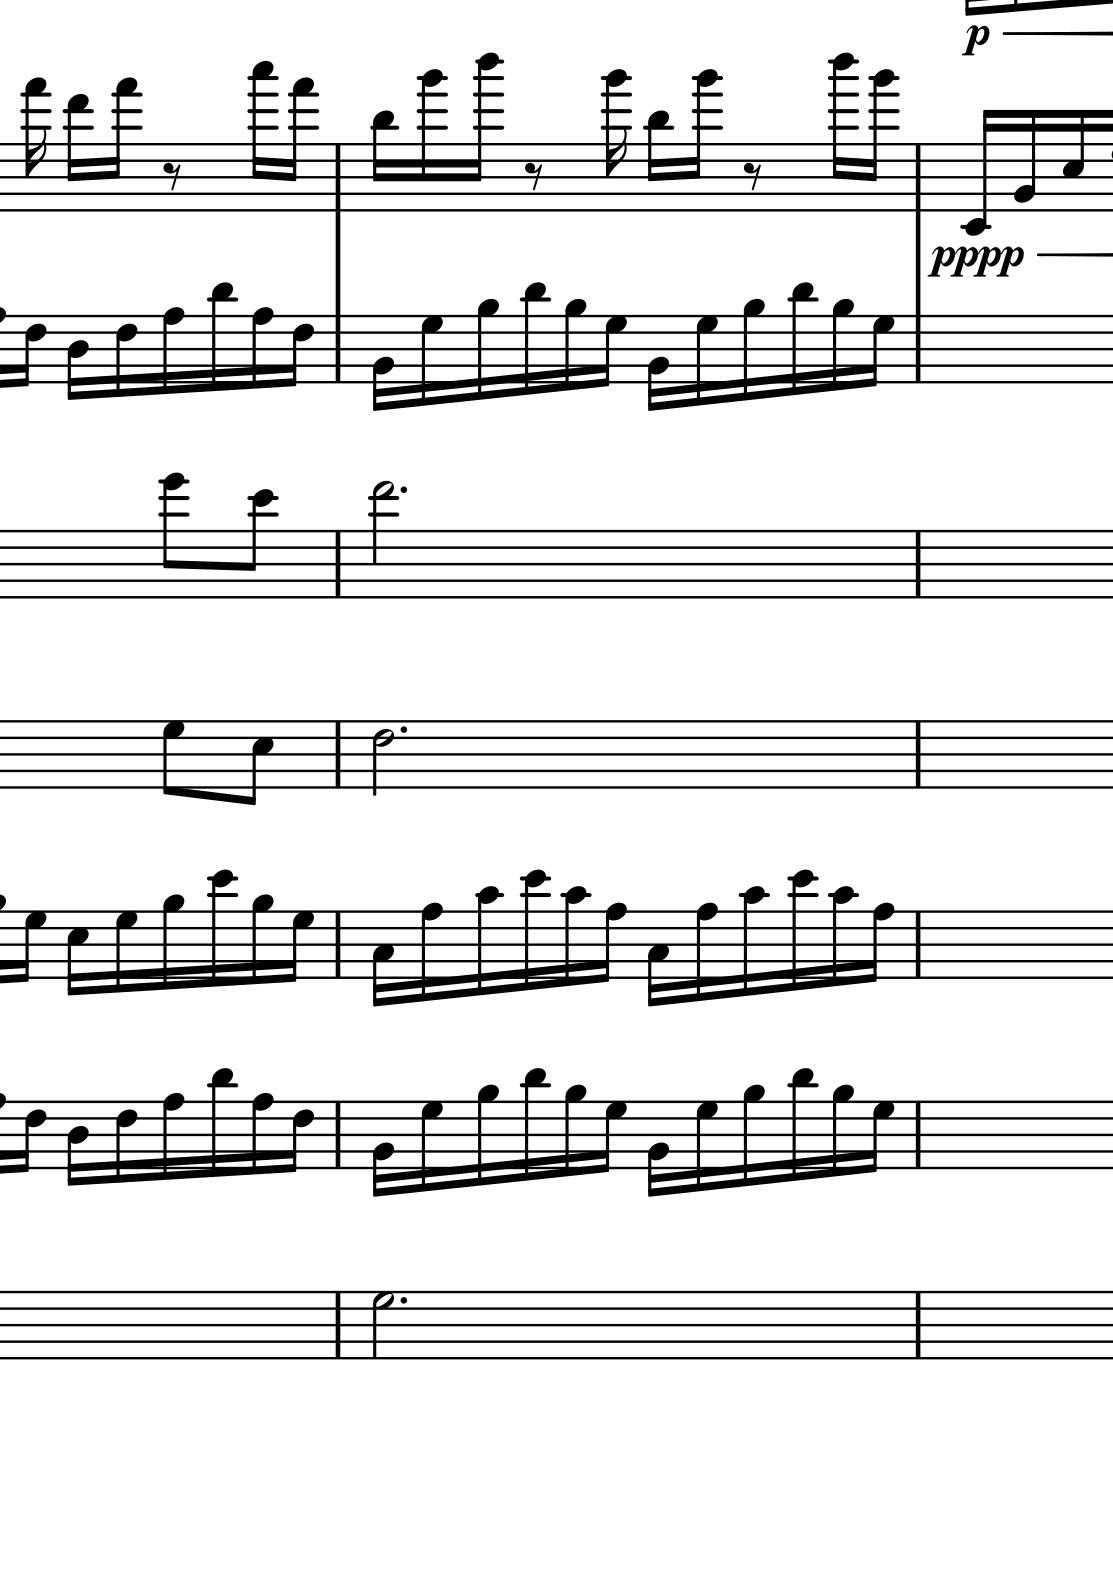16_-2: (961, 105, 999, 242)
16_10: (740, 885, 771, 998), (473, 886, 503, 998), (828, 885, 859, 989), (561, 885, 591, 989)
16_11: (788, 1066, 817, 1184), (207, 1066, 237, 1179), (522, 281, 550, 397), (788, 281, 817, 397), (207, 281, 237, 393), (520, 1067, 549, 1181), (643, 107, 673, 216), (370, 111, 396, 214)
16_12: (788, 868, 819, 997), (207, 866, 238, 991), (520, 867, 550, 995)
16_13: (64, 93, 90, 212)
16_15: (285, 76, 318, 214), (110, 76, 142, 214), (19, 76, 51, 214)
16_16: (682, 67, 722, 214), (600, 67, 634, 214), (866, 67, 899, 216), (416, 67, 447, 211)
16_17: (247, 60, 279, 214)
16_18: (469, 52, 506, 213), (826, 52, 860, 213)
16_2: (1011, 106, 1040, 214), (369, 314, 395, 413), (644, 314, 670, 413), (369, 1099, 394, 1198), (644, 1099, 670, 1198)
16_3: (644, 908, 670, 1008), (370, 908, 394, 1008)
16_4: (65, 313, 89, 402), (65, 1099, 89, 1188)
16_5: (1061, 106, 1086, 216), (64, 909, 89, 998)
16_6: (13, 312, 46, 391), (13, 1098, 46, 1176), (284, 312, 316, 388), (284, 1098, 316, 1174), (113, 314, 139, 399), (113, 1101, 139, 1184)
16_7: (418, 312, 444, 409), (418, 1098, 444, 1194), (14, 908, 47, 986), (694, 312, 719, 409), (864, 313, 896, 389), (595, 1099, 628, 1175), (283, 908, 314, 986), (595, 314, 628, 389), (694, 1099, 719, 1194), (864, 1099, 895, 1175), (113, 909, 139, 993)
16_8: (597, 899, 629, 985), (419, 901, 444, 1003), (694, 901, 719, 1003), (864, 902, 895, 984), (160, 305, 185, 396), (160, 1091, 185, 1181), (251, 1091, 275, 1176), (251, 306, 275, 390)
16_9: (475, 297, 501, 401), (741, 1083, 766, 1188), (741, 297, 766, 402), (475, 1083, 500, 1187), (160, 893, 185, 991), (563, 297, 588, 393), (830, 297, 855, 393), (563, 1084, 588, 1176), (830, 1084, 855, 1176), (251, 893, 273, 985)
2_6: (370, 719, 396, 798)
2_7: (370, 1290, 396, 1361)
4_13: (369, 478, 397, 601)
8_12: (237, 486, 278, 602)
8_14: (158, 471, 189, 603)
8_5: (242, 719, 275, 807)
8_7: (161, 719, 185, 798)
Rests8: (160, 160, 183, 191), (522, 160, 544, 191), (741, 160, 764, 191)
Single_barline: (326, 1291, 351, 1359), (905, 530, 929, 598), (907, 1291, 930, 1359), (326, 1101, 349, 1168), (326, 144, 349, 212), (906, 721, 929, 789), (907, 1101, 929, 1169), (907, 315, 929, 383), (326, 530, 348, 597), (328, 912, 349, 979), (326, 315, 348, 382), (907, 144, 927, 212), (328, 721, 348, 787), (908, 912, 929, 978)
dot: (396, 722, 410, 737), (397, 484, 410, 497), (397, 1294, 410, 1306)
p: (960, 23, 991, 61)
pppp: (925, 242, 1029, 284)
